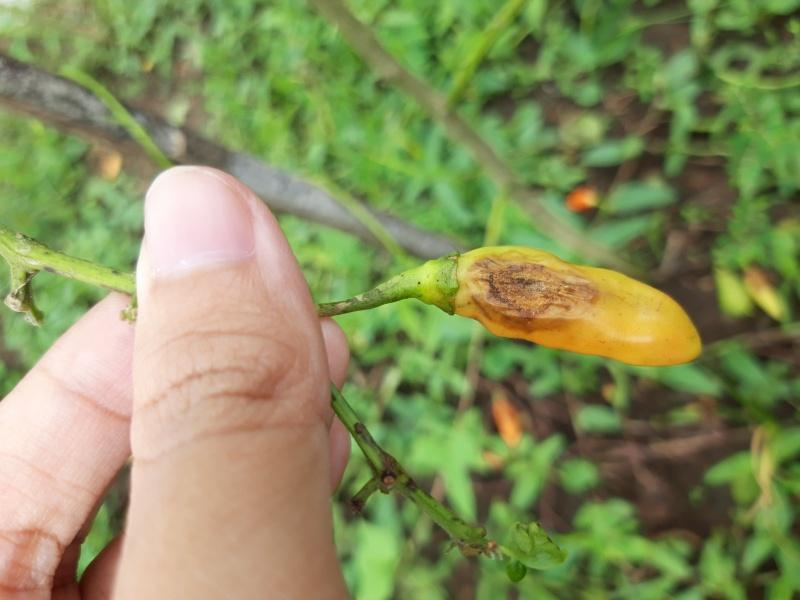antraknosa: (456, 246, 702, 366)
